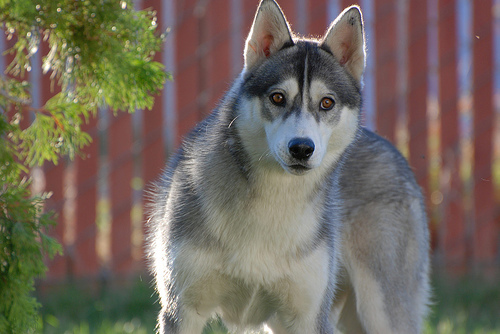dog: (140, 0, 438, 333)
